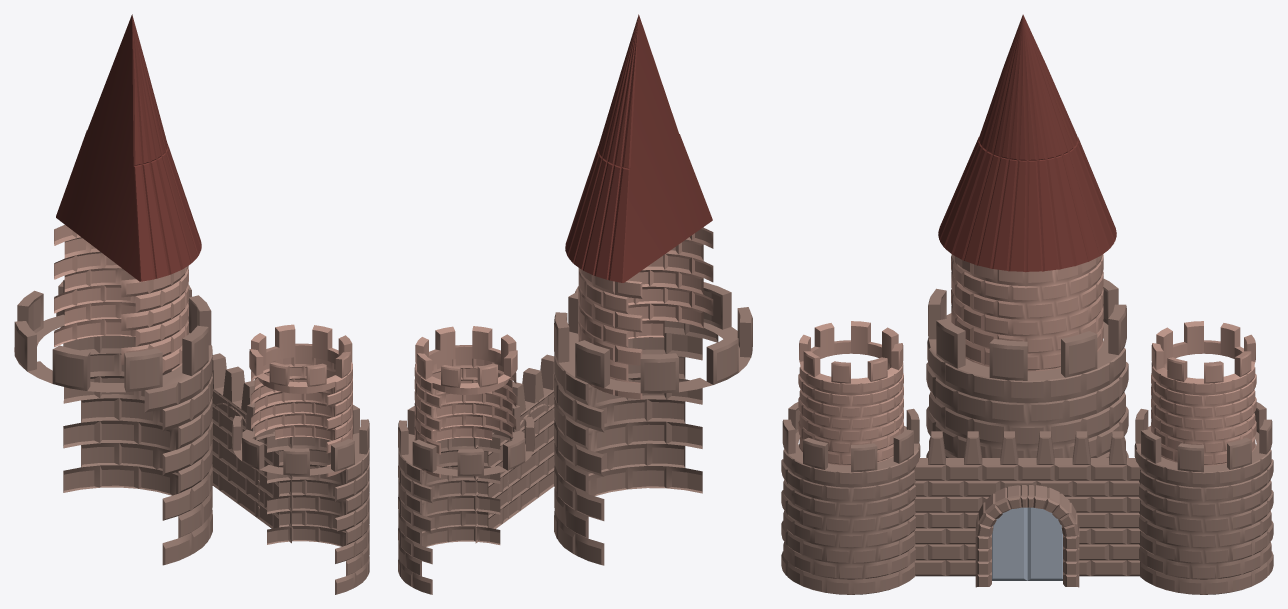
Rendered from Castle.fbx.
3 renders of one model, left to right at view 1: azimuth 30°, elevation 25°; view 2: azimuth 150°, elevation 25°; view 3: azimuth 270°, elevation 25°, orthographic.
Visible parts, largest first — view 1: Cylinder.002, Cylinder.004, Cylinder, Cylinder.003, Cylinder.001, Cube; view 2: Cylinder.002, Cylinder.004, Cylinder, Cylinder.003, Cylinder.001, Cube; view 3: Cylinder, Cylinder.004, Cube, Cylinder.001, Cylinder.002, Cylinder.003, Cube.002.
Boxes of the visible parts, x1,y1,x2,y2 form: Cylinder.002: (14,279,212,565); Cylinder.004: (56,14,201,281); Cylinder: (56,281,369,594); Cylinder.003: (54,225,188,373); Cylinder.001: (249,324,352,477); Cube: (212,353,291,543); Cylinder.002: (554,282,752,565); Cylinder.004: (565,14,712,282); Cylinder: (398,286,578,594); Cylinder.003: (578,227,713,399); Cylinder.001: (414,326,517,477); Cube: (475,354,554,543); Cylinder: (781,402,1273,594); Cylinder.004: (938,14,1116,272); Cube: (914,431,1140,587); Cylinder.001: (798,321,1256,465); Cylinder.002: (926,279,1128,457); Cylinder.003: (951,254,1103,371); Cube.002: (992,507,1062,580).
Size of the model in its own units: 416 by 831 by 723.
